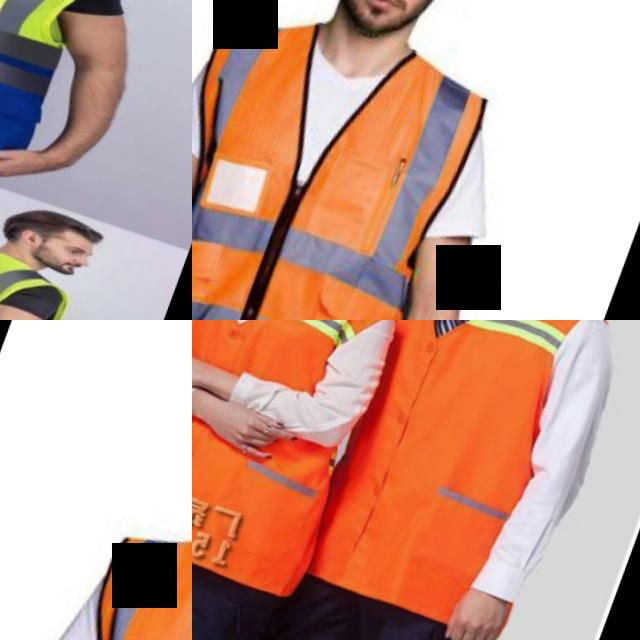vest: (192, 0, 509, 320), (302, 320, 601, 609), (192, 320, 395, 584), (10, 514, 192, 640), (0, 0, 111, 174), (0, 223, 93, 320)
